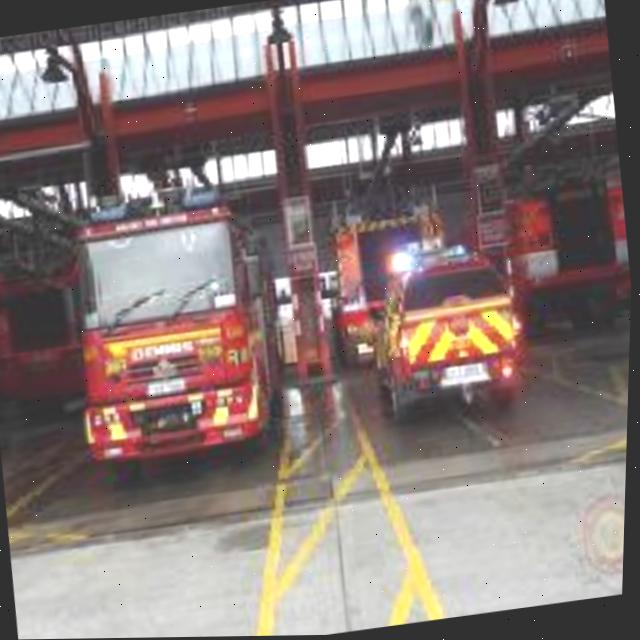emergency: (63, 193, 306, 468), (369, 234, 542, 423), (322, 198, 474, 361)
